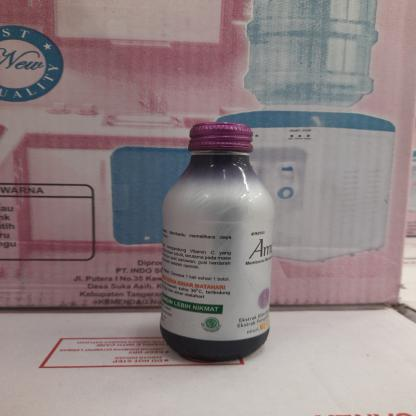bottle: (154, 121, 276, 363)
